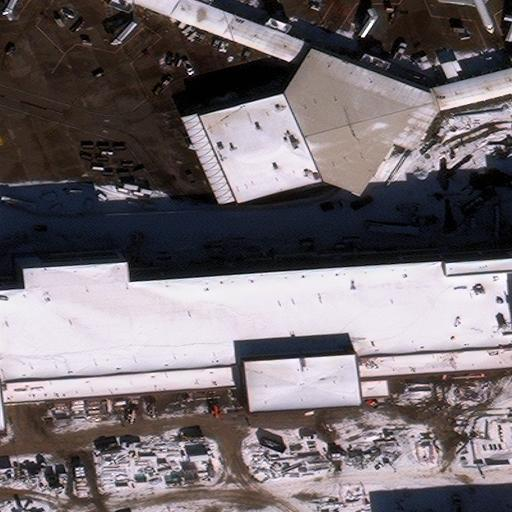Medium Civil Transport: (438, 0, 503, 33)
